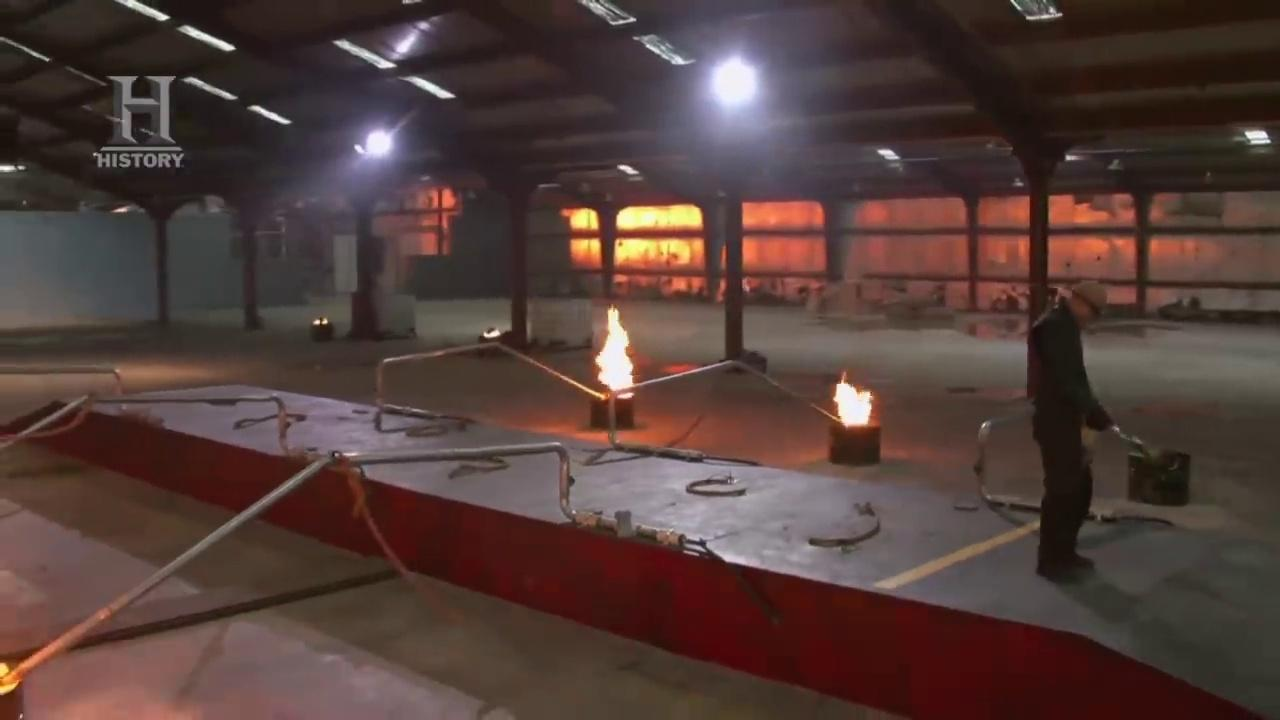Fire: (568, 212, 703, 277), (582, 311, 652, 406), (821, 378, 879, 429)
